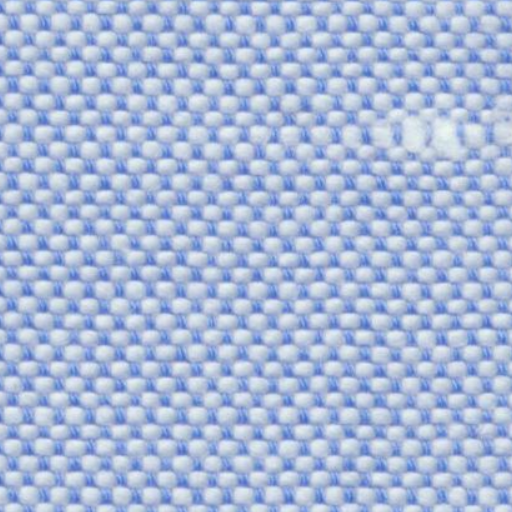DaiSha: (372, 102, 488, 170)
